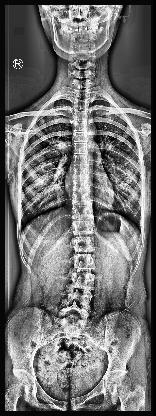Vertebrae: (54, 292, 98, 314), (68, 272, 100, 290), (69, 236, 99, 252), (69, 254, 99, 268), (70, 222, 98, 235), (69, 178, 93, 192), (69, 207, 95, 219), (70, 193, 95, 205), (71, 154, 92, 166), (70, 168, 92, 178), (70, 119, 90, 130), (72, 143, 90, 153), (72, 109, 90, 119), (71, 132, 89, 140), (73, 90, 91, 98), (74, 100, 91, 108)
